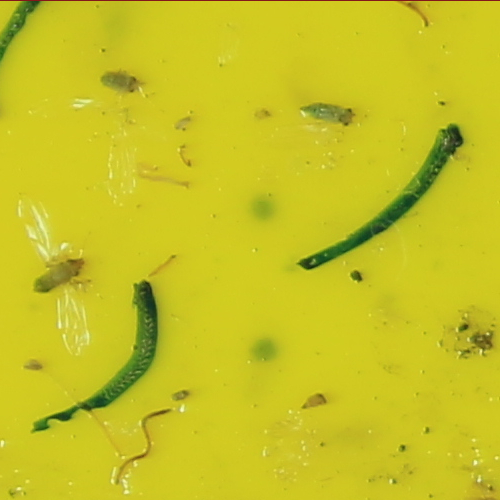Glycaspis: (32, 254, 87, 295), (297, 100, 358, 128), (95, 70, 147, 93)
